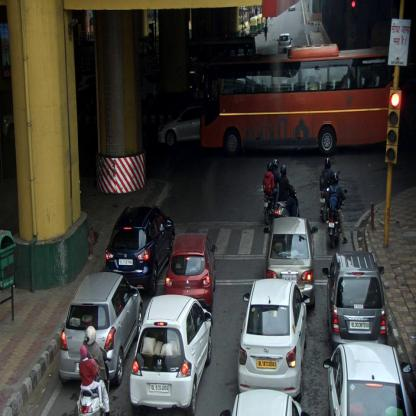bus: (199, 42, 415, 153)
car: (130, 294, 213, 415), (58, 272, 142, 387), (238, 278, 309, 400), (323, 340, 415, 415), (105, 206, 175, 294), (322, 251, 388, 344), (263, 217, 317, 312), (165, 234, 218, 308), (157, 106, 201, 146), (278, 33, 292, 53)
motorcycle: (77, 326, 112, 415), (326, 174, 348, 247), (276, 164, 300, 218), (262, 158, 280, 223), (320, 157, 337, 221)
